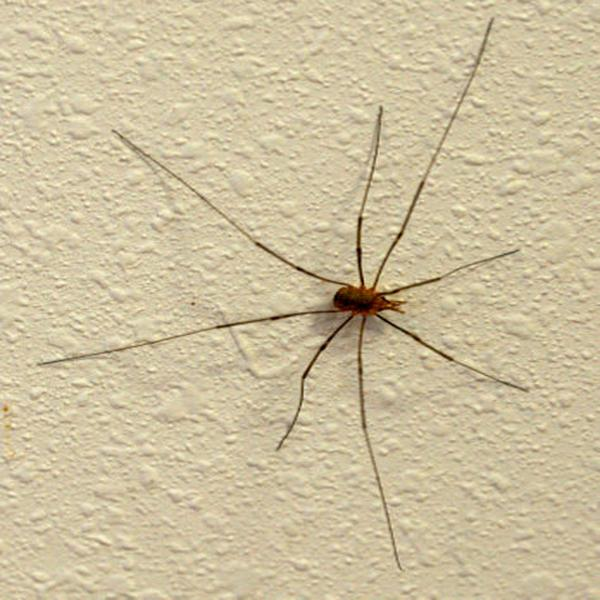Daddy Long Legs Spider: (62, 34, 533, 548)
